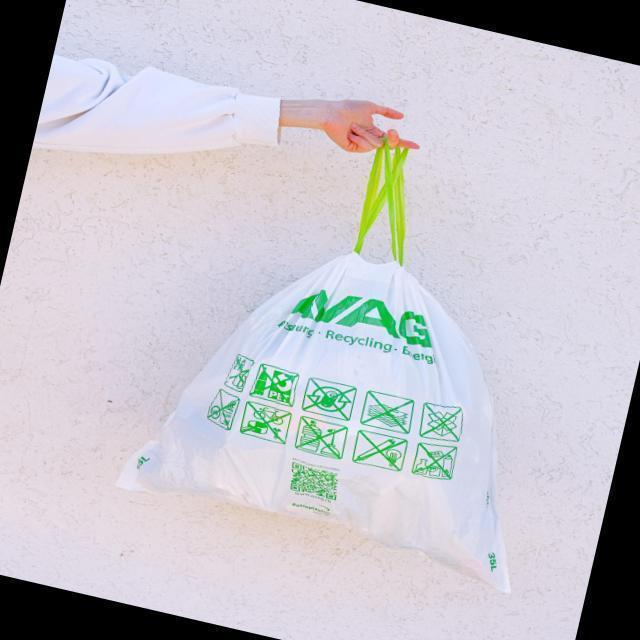Plastic_Bag: (123, 197, 562, 596)
